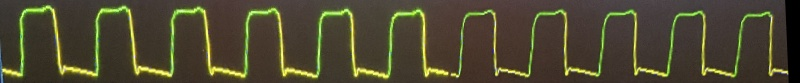normal_pressure: (0, 4, 785, 83)
